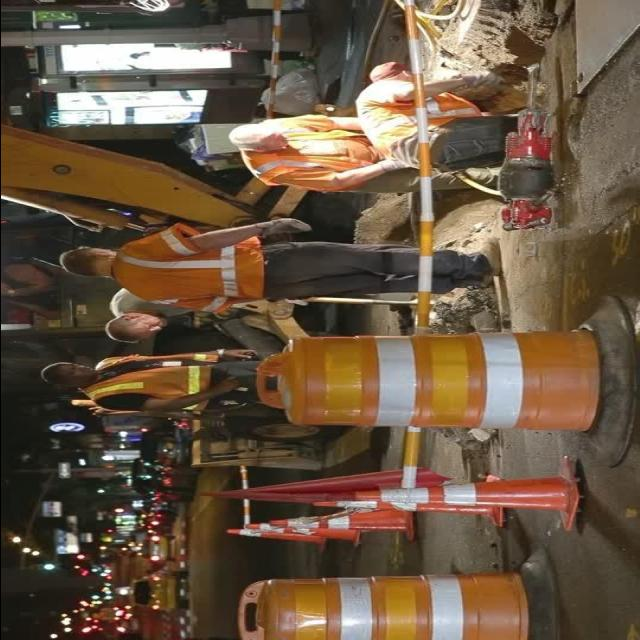jacket: (106, 220, 270, 318), (231, 111, 375, 191), (87, 348, 218, 416)
